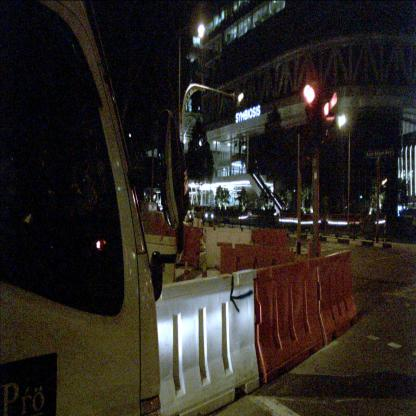barrier: (151, 266, 260, 416), (256, 258, 326, 386), (316, 247, 359, 346), (215, 241, 295, 286), (200, 225, 253, 287), (140, 233, 178, 301), (251, 226, 288, 285), (178, 220, 202, 272)
cone: (198, 252, 210, 282), (305, 236, 315, 269), (182, 251, 191, 286), (290, 244, 296, 268)
